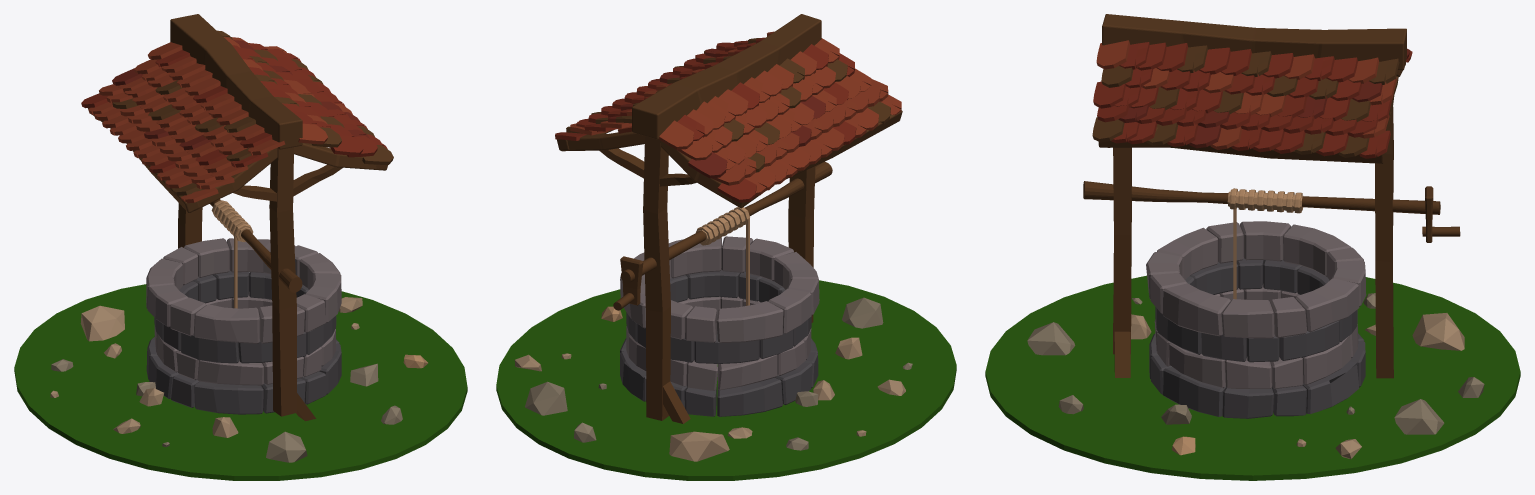
Rendered from pozo.fbx.
3 renders of one model, left to right at view 1: azimuth 30°, elevation 25°; view 2: azimuth 150°, elevation 25°; view 3: azimuth 270°, elevation 25°, orthographic. The views are drawn at different scales.
Parts seen in each view (by area): view 1: Cylinder.002, Plane.078, Cube.004, Cube.006, Cube.008, Cube.003, Cube.001, Cube.002, Cube.010, Icosphere.005, Cube.009, Icosphere.002 (+6 smaller); view 2: Cylinder.002, Plane.078, Cube.004, Cube.008, Cube, Cube.003, Cube.001, Cube.002, Cube.006, Cylinder, Cube.010, Icosphere.005 (+9 smaller); view 3: Cylinder.002, Cube.004, Cube.008, Cube.003, Cube.001, Cube.002, Cube, Cube.006, Cylinder, Cube.009, Icosphere.005, Cylinder.010 (+7 smaller).
Part boxes in pixels (x1,y1,x2,y2): Cylinder.002: (14,284,467,480); Plane.078: (88,42,285,203); Cube.004: (146,238,341,343); Cube.006: (269,147,296,416); Cube.008: (170,14,302,149); Cube.003: (154,270,336,363); Cube.001: (146,336,341,414); Cube.002: (154,292,335,385); Cube.010: (88,108,277,212); Icosphere.005: (80,305,124,341); Cube.009: (294,143,387,170); Icosphere.002: (266,431,307,462); Cylinder.002: (496,280,956,480); Plane.078: (659,38,901,195); Cube.004: (620,236,819,343); Cube.008: (632,14,821,139); Cube: (643,136,670,420); Cube.003: (626,270,811,363); Cube.001: (620,329,818,416); Cube.002: (626,296,811,390); Cube.006: (788,166,815,322); Cylinder: (621,161,832,283); Cube.010: (661,110,902,208); Icosphere.005: (669,431,729,461); Cylinder.002: (985,275,1520,480); Cube.004: (1146,221,1366,338); Cube.008: (1102,14,1406,70); Cube.003: (1155,257,1357,362); Cube.001: (1149,333,1365,418); Cube.002: (1154,284,1358,388); Cube: (1375,98,1393,378); Cube.006: (1113,147,1131,354); Cylinder: (1083,181,1440,214); Cube.009: (1098,107,1390,163); Icosphere.005: (1412,313,1464,350); Cylinder.010: (1227,188,1302,213).
Bounding box in the file's own units: 3251 × 2529 × 3523.
